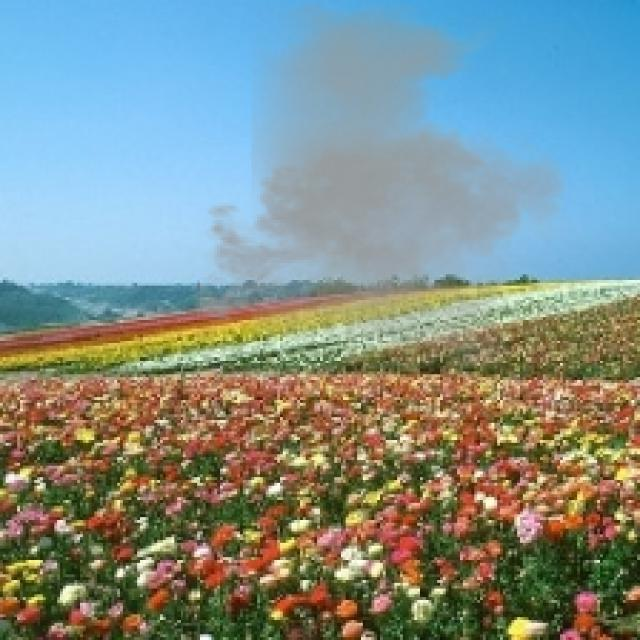smoke: (180, 0, 584, 372)
